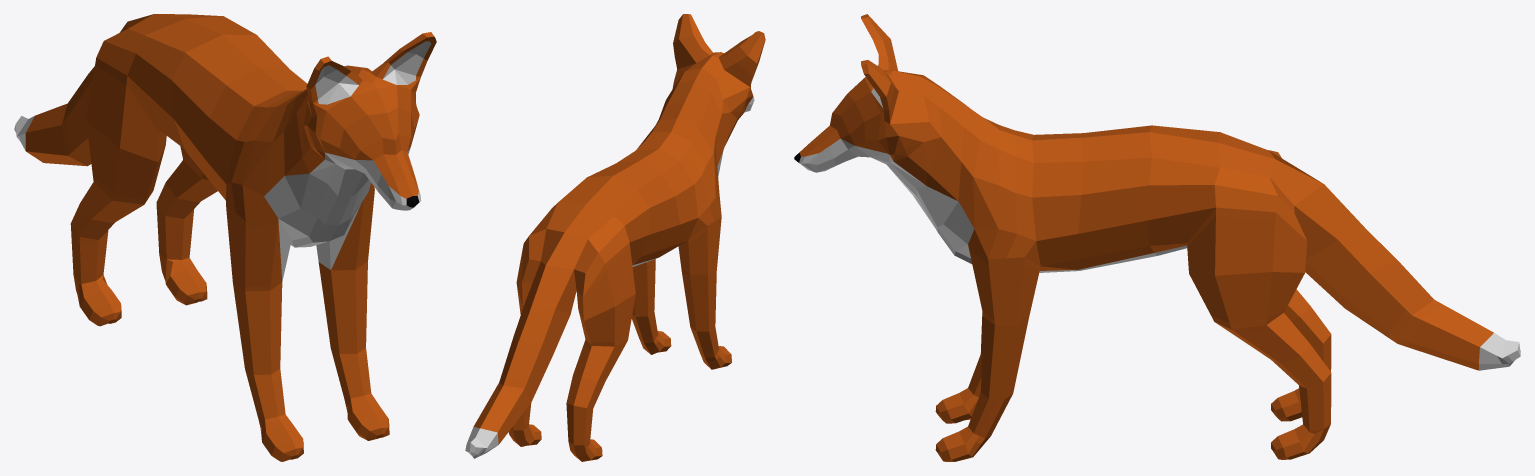
File: Fox.fbx
3 views of the same model, side by side, from view 1: azimuth 30°, elevation 25°; view 2: azimuth 150°, elevation 25°; view 3: azimuth 270°, elevation 25° (orthographic). The views are drawn at different scales.
Parts seen in each view (by area): view 1: Cylinder.002; view 2: Cylinder.002; view 3: Cylinder.002.
Boxes of the visible parts, x1=… form: Cylinder.002: x1=14, y1=14, x2=436, y2=461; Cylinder.002: x1=465, y1=14, x2=765, y2=461; Cylinder.002: x1=794, y1=14, x2=1520, y2=461.
Bounding box in the file's own units: 176 × 528 × 866.
